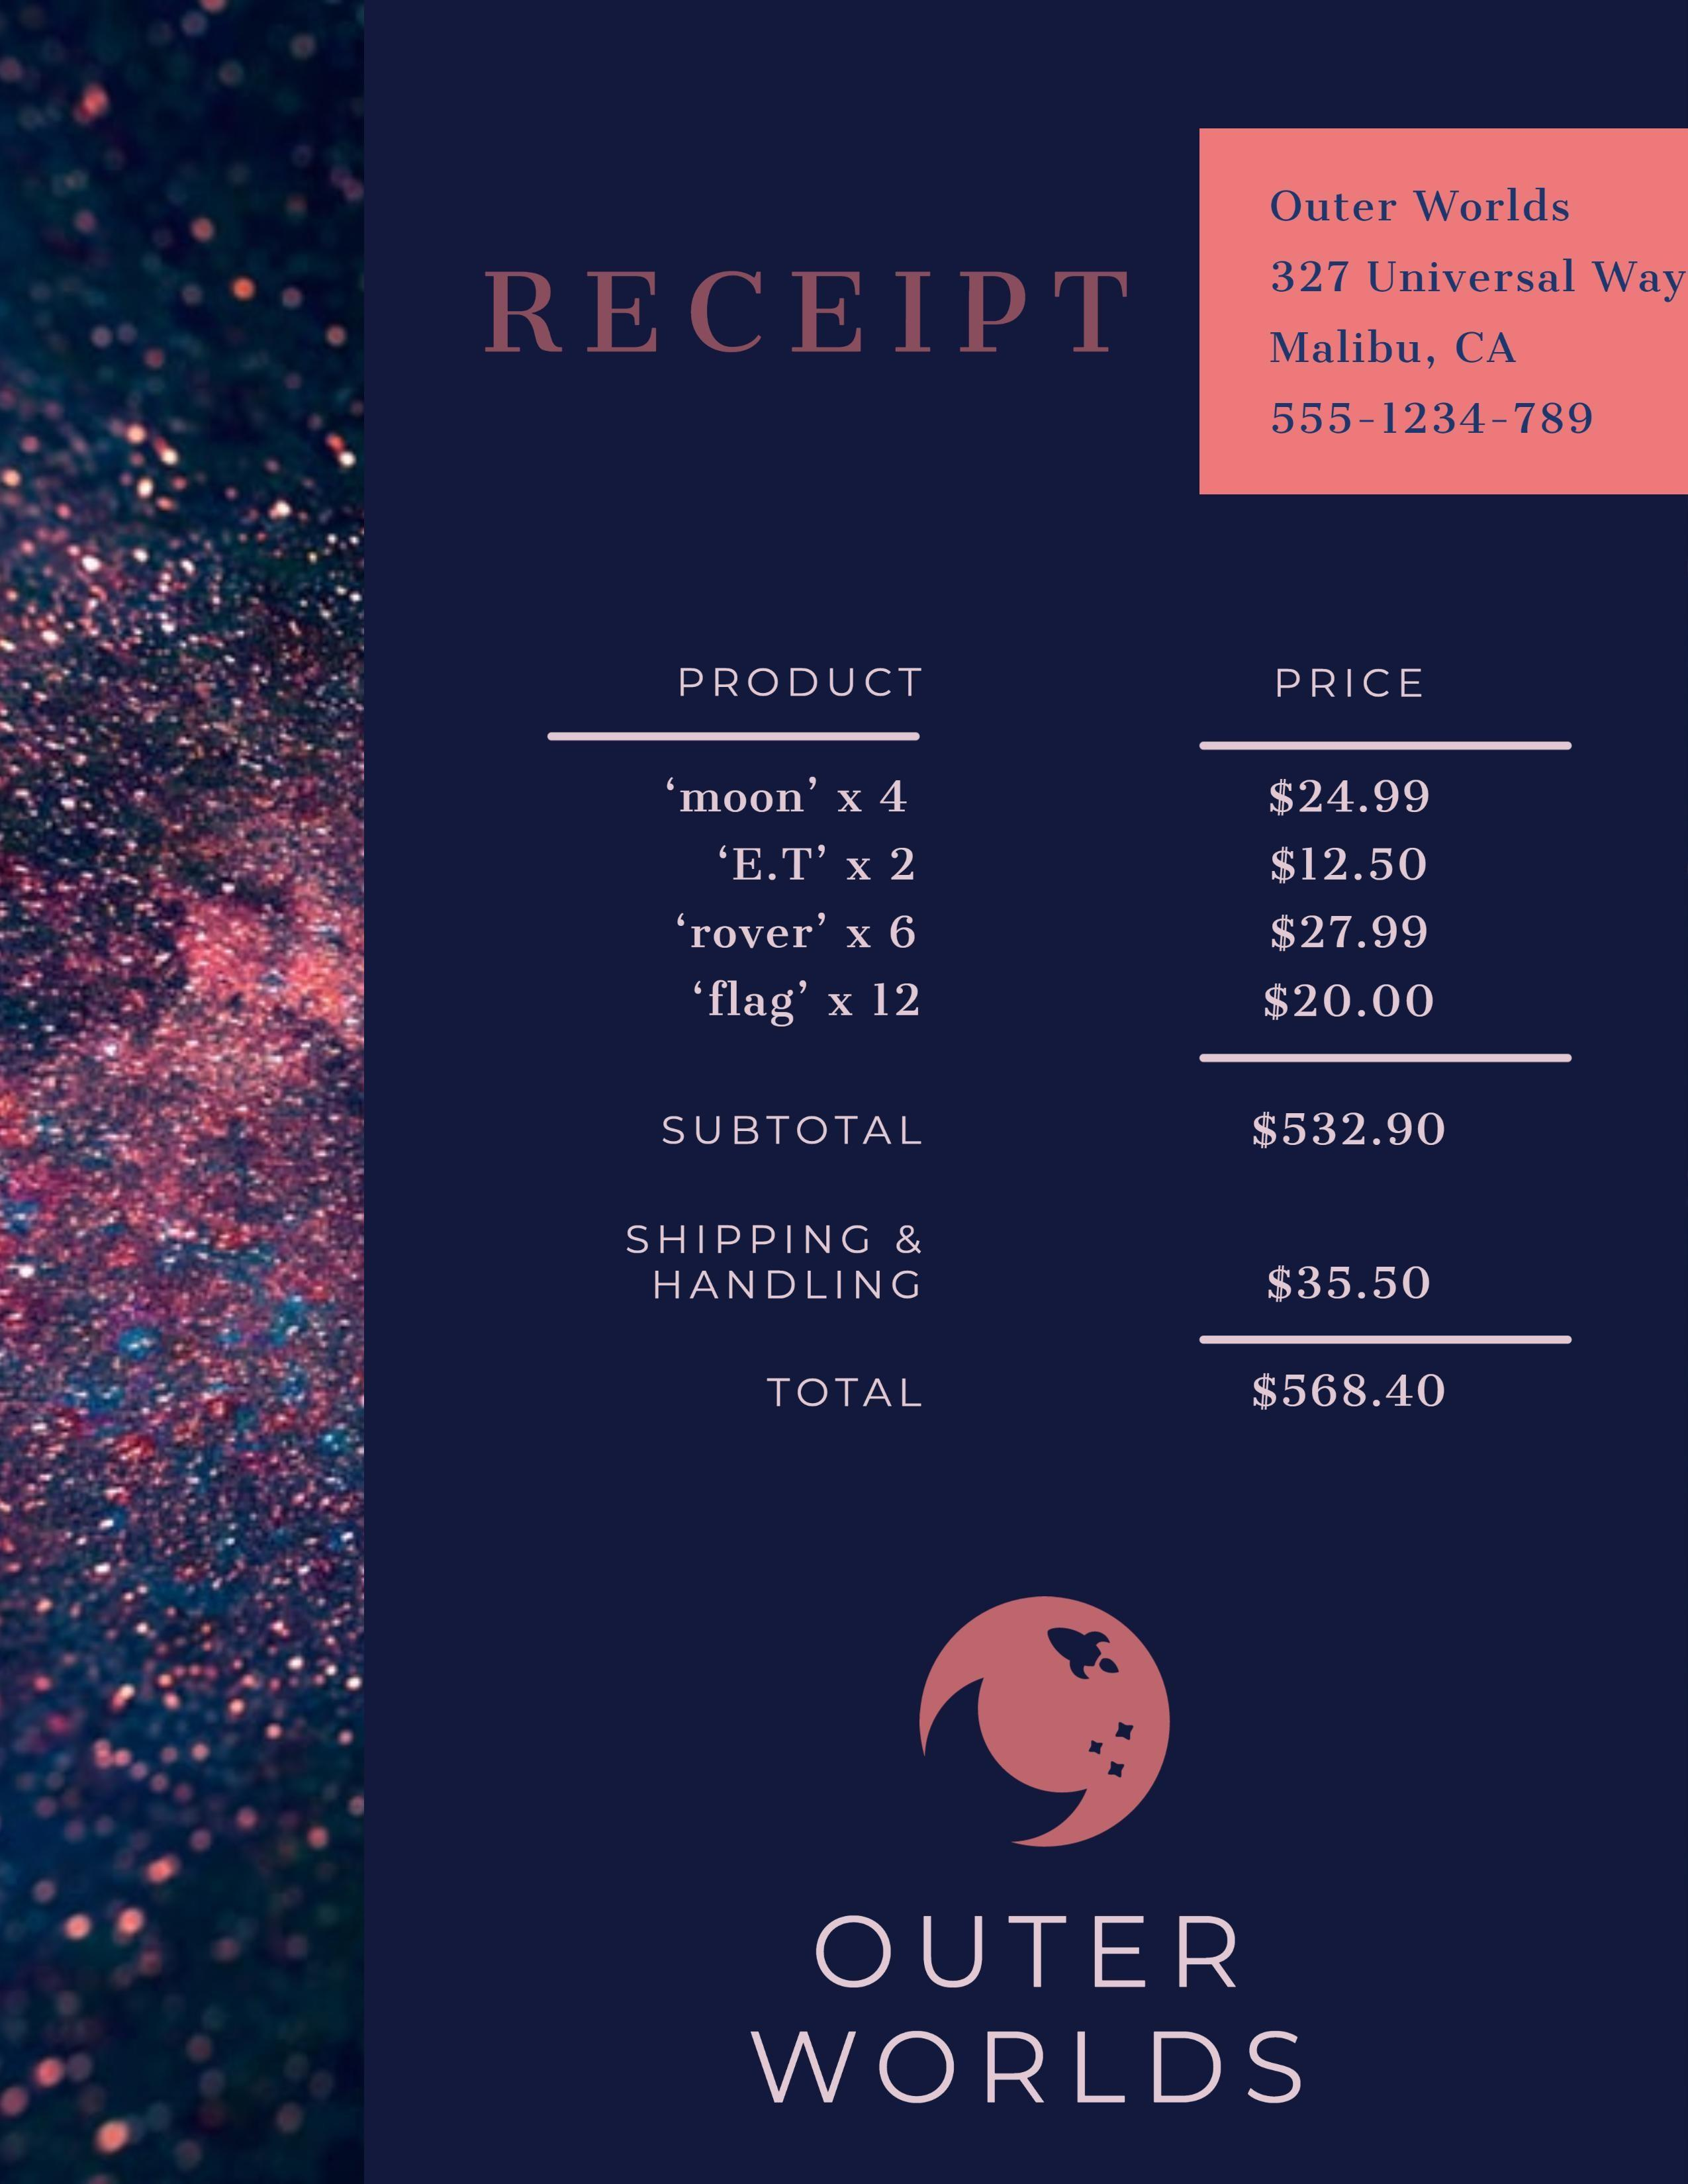ROI: (548, 645, 1567, 1058), (571, 1097, 1569, 1439), (720, 1891, 1339, 2143), (1250, 170, 1677, 454)
